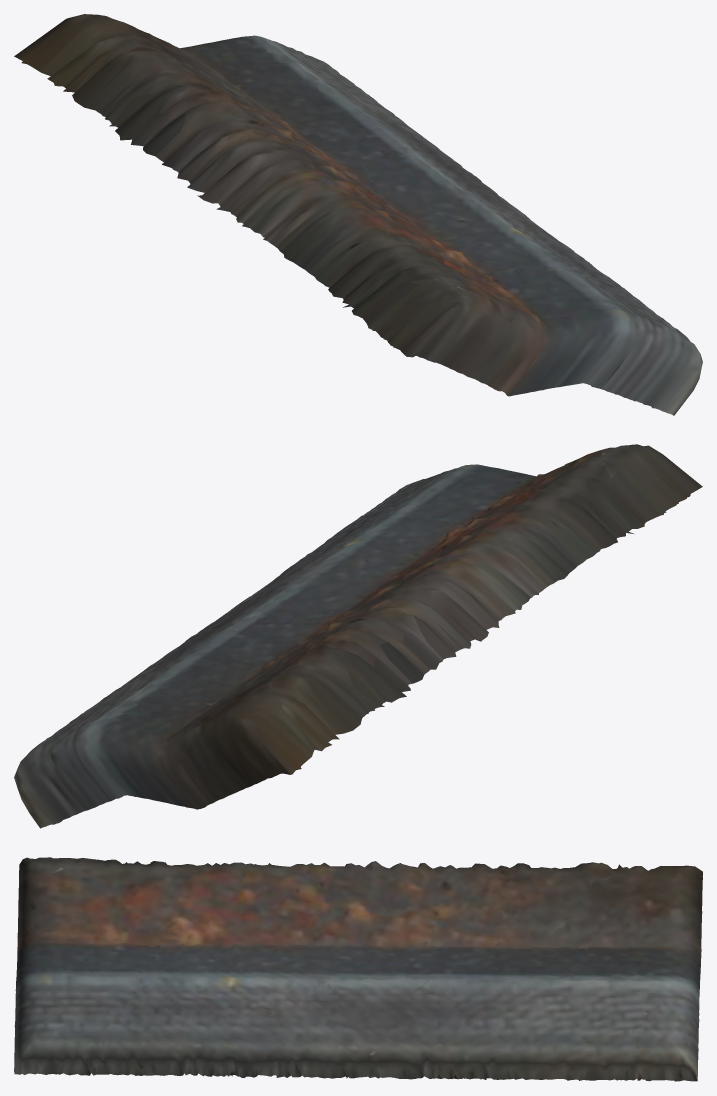
Rendered from run4_p2_c4.glb.
3 renders of one model, top to bottom at view 1: azimuth 30°, elevation 25°; view 2: azimuth 150°, elevation 25°; view 3: azimuth 270°, elevation 25°, orthographic. The views are drawn at different scales.
Parts seen in each view (by area): view 1: run4_p2_straight_c4; view 2: run4_p2_straight_c4; view 3: run4_p2_straight_c4.
Part boxes in pixels (x1,y1,x2,y2): run4_p2_straight_c4: (14,14,702,415); run4_p2_straight_c4: (14,444,702,828); run4_p2_straight_c4: (14,857,702,1081).
Size of the model in its own units: 8.83 by 4.31 by 20.13.
1 material, 1 textured.
